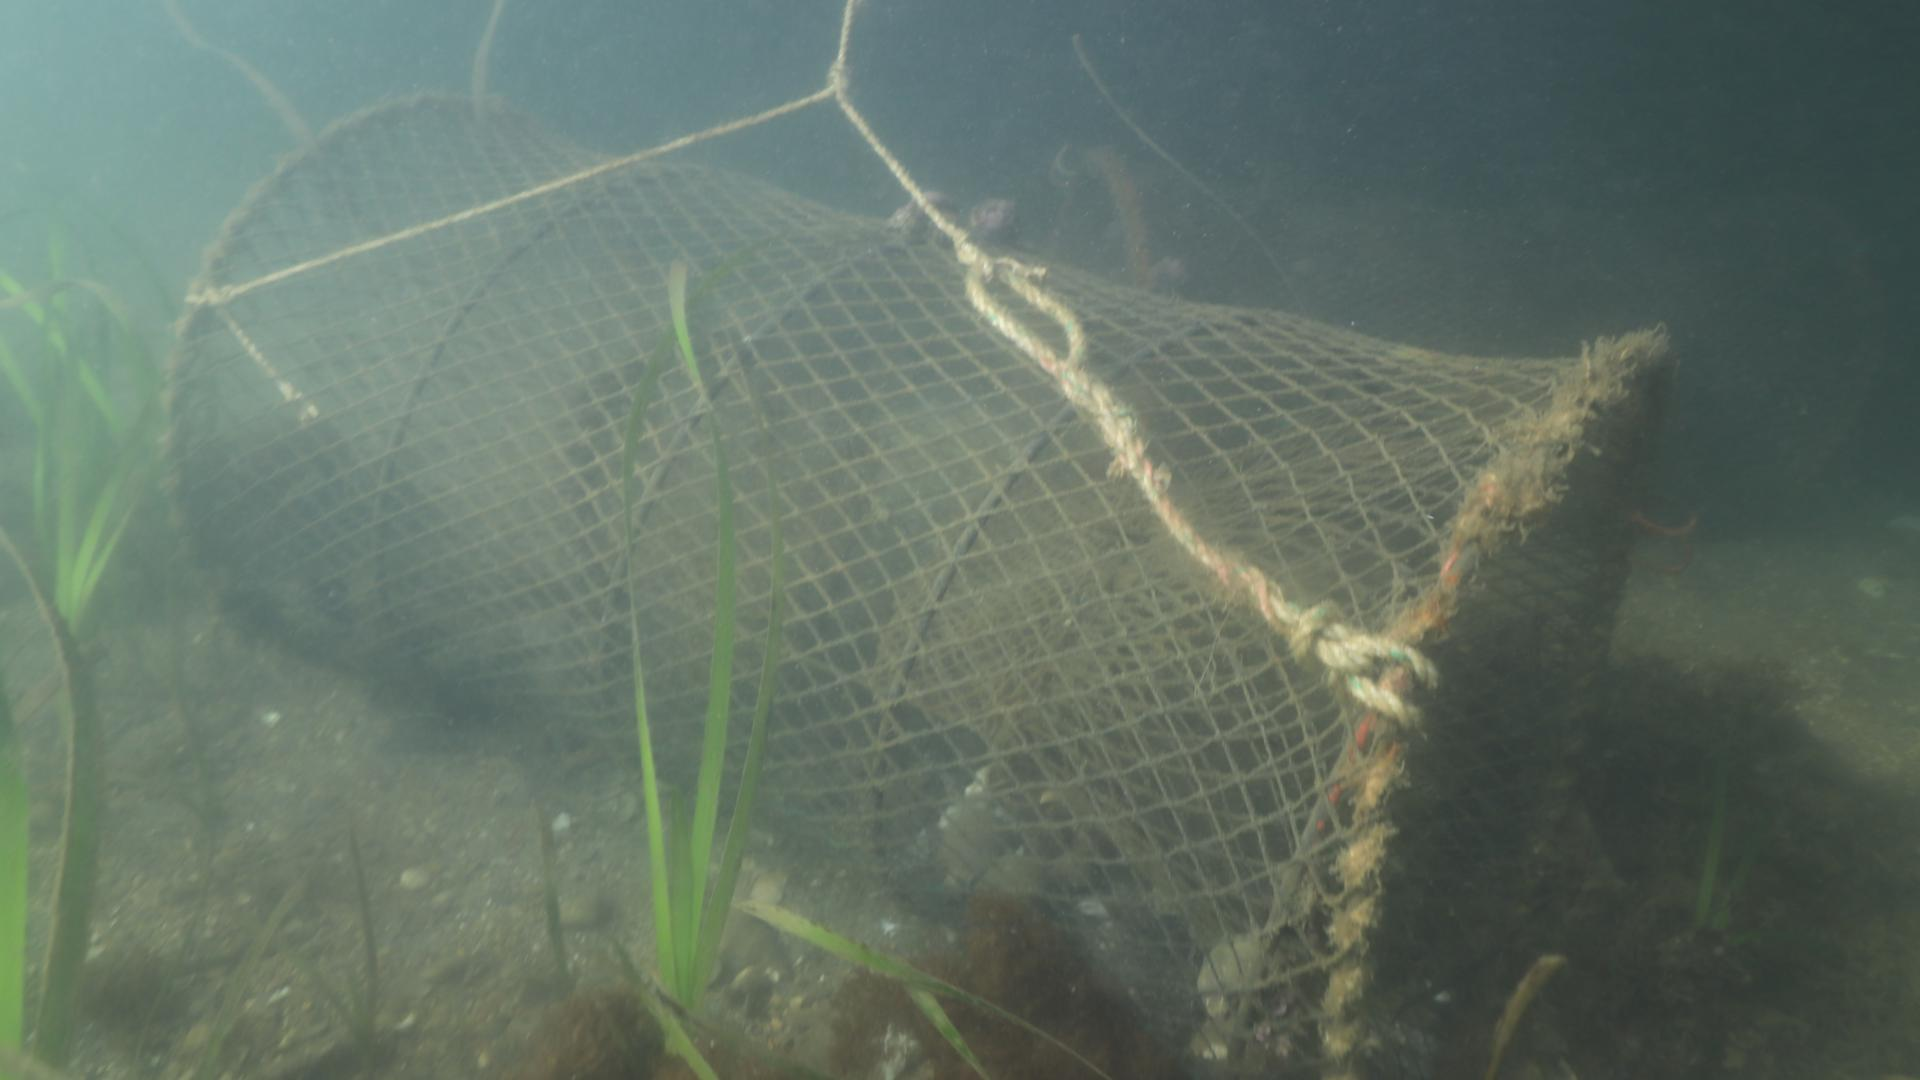bundle of ropes: (182, 0, 1447, 731)
spring fish trap: (154, 88, 1675, 1080)
